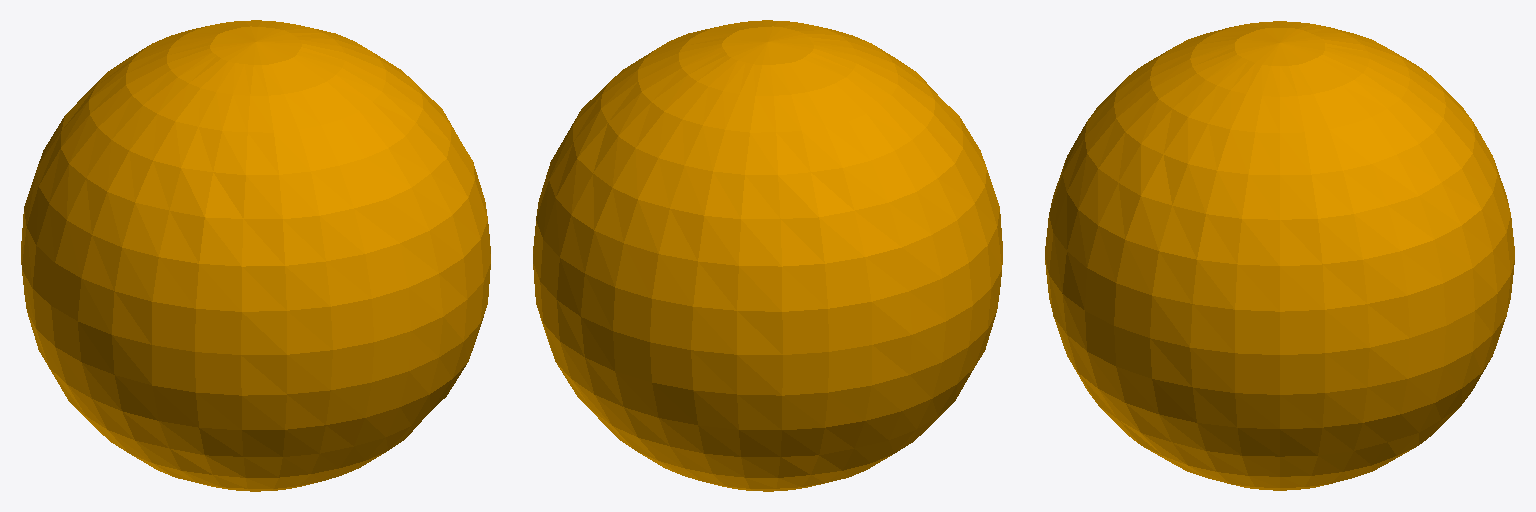
robot.urdf — light_room7:
<?xml version="1.0" ?>

<robot name="light_room7" xmlns:xi="http://www.w3.org/2001/XInclude"
	xmlns:gazebo="http://playerstage.sourceforge.net/gazebo/xmlschema/#gz"
	xmlns:model="http://playerstage.sourceforge.net/gazebo/xmlschema/#model"
	xmlns:sensor="http://playerstage.sourceforge.net/gazebo/xmlschema/#sensor"
	xmlns:body="http://playerstage.sourceforge.net/gazebo/xmlschema/#body"
	xmlns:geom="http://playerstage.sourceforge.net/gazebo/xmlschema/#geom"
	xmlns:joint="http://playerstage.sourceforge.net/gazebo/xmlschema/#joint"
	xmlns:interface="http://playerstage.sourceforge.net/gazebo/xmlschema/#interface"
	xmlns:rendering="http://playerstage.sourceforge.net/gazebo/xmlschema/#rendering"
	xmlns:renderable="http://playerstage.sourceforge.net/gazebo/xmlschema/#renderable"
	xmlns:controller="http://playerstage.sourceforge.net/gazebo/xmlschema/#controller"
	xmlns:physics="http://playerstage.sourceforge.net/gazebo/xmlschema/#physics">

  <link name="bulb_r7">
   <inertial>
	<mass value="1" />
			<com xyz="10 12.25 2.22" />
			<inertia ixx="0" ixy="0.0" ixz="0.0" iyy="0" iyz="0.0" izz="0" />
		</inertial>

		<visual>
			<origin xyz="10 12.25 2.22" rpy="0 0 0" />  <!--   definition of the visual postion of the object!! -->
			<geometry>
				<sphere radius="0.0001" />
			</geometry>
		</visual>
		<collision>
			<origin xyz="10 12.25 2.22" rpy="0 0 0" />
			<geometry>
				<sphere radius="0.0001" />
			</geometry>
		</collision>
	</link>

	<gazebo reference="bulb_r7">
		<model:renderable name="light_r7">
			<xyz>10 12.25 2.22</xyz>
			<static>true</static>
			<light>
				<type>point</type>
				<diffuseColor>0.1 0.1 0.1</diffuseColor>
				<specularColor>.01 .01 .01</specularColor>
				<attenuation>0.1 0.1 0.0001</attenuation>
				<range>4</range>
			</light>
		</model:renderable>
	</gazebo>
</robot>

--- What the picture shows (computed from the rendered views, not written in the file) ---
3 views of the same robot in one strip: view 1: azimuth 30°, elevation 25°; view 2: azimuth 150°, elevation 25°; view 3: azimuth 270°, elevation 25° (orthographic).
Robot: light_room7 — 1 links, 0 joints (none); root link bulb_r7; default pose: all joints at 0.
Links seen in each view (by area): view 1: bulb_r7; view 2: bulb_r7; view 3: bulb_r7.
Link boxes in pixels (left/top/right/bottom): bulb_r7: left=21, top=20, right=490, bottom=491; bulb_r7: left=533, top=20, right=1002, bottom=491; bulb_r7: left=1045, top=21, right=1514, bottom=490.
Bounding box of the posed robot: 0.0002 × 0.0002 × 0.0002 m (x, y, z).
Geometry: primitives only (box / cylinder / sphere), no mesh files.